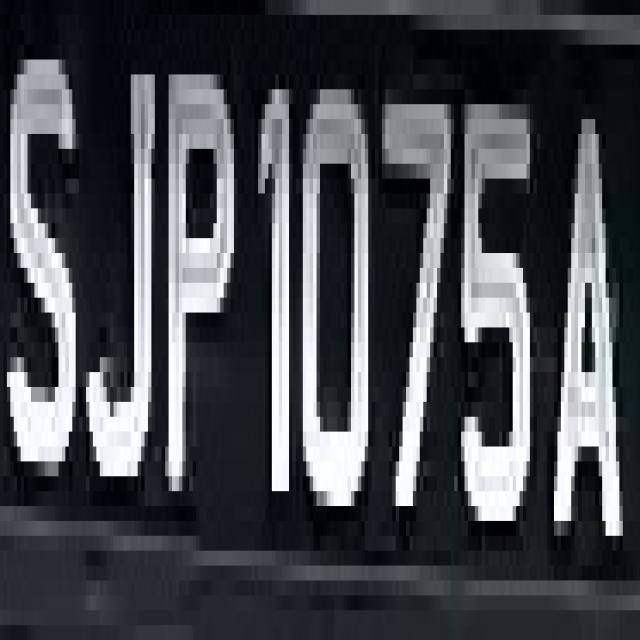0: (299, 44, 375, 550)
1: (261, 104, 303, 566)
5: (458, 30, 540, 580)
7: (372, 44, 451, 566)
A: (530, 90, 626, 610)
J: (79, 30, 165, 536)
P: (165, 89, 234, 491)
S: (4, 45, 79, 506)
